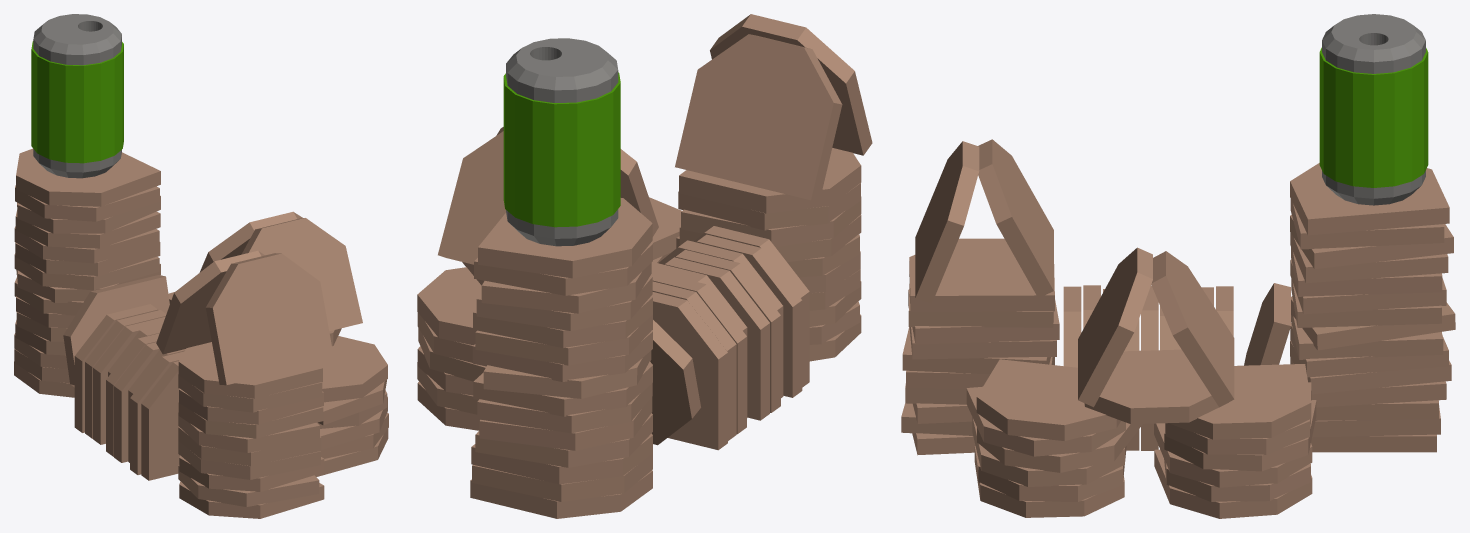
File: wieza_energol.fbx
The picture shows the model from 3 angles, left to right: view 1: azimuth 30°, elevation 25°; view 2: azimuth 150°, elevation 25°; view 3: azimuth 270°, elevation 25°; orthographic projection. The views are drawn at different scales.
Visible parts, largest first — view 1: Cube.011; view 2: Cube.011; view 3: Cube.011.
Part boxes in pixels (x1=…): Cube.011: x1=14, y1=14, x2=388, y2=518; Cube.011: x1=417, y1=14, x2=872, y2=518; Cube.011: x1=901, y1=14, x2=1455, y2=518.
Size of the model in its own units: 593 by 838 by 1067.
